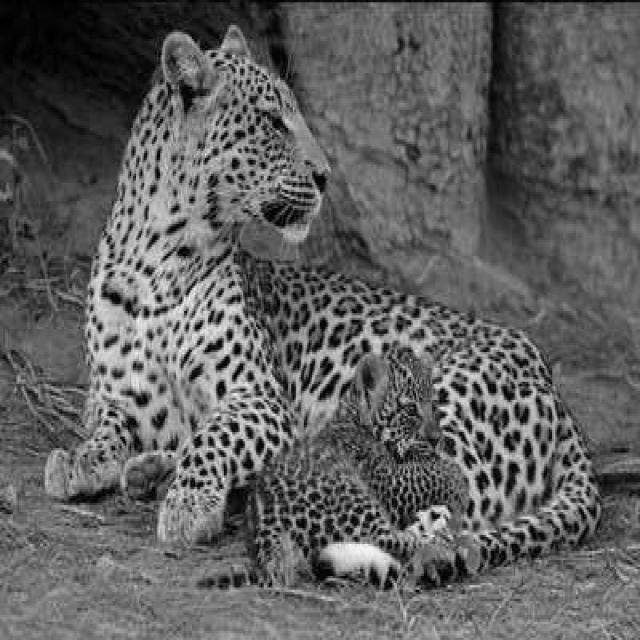Leopard: (43, 21, 602, 590)
